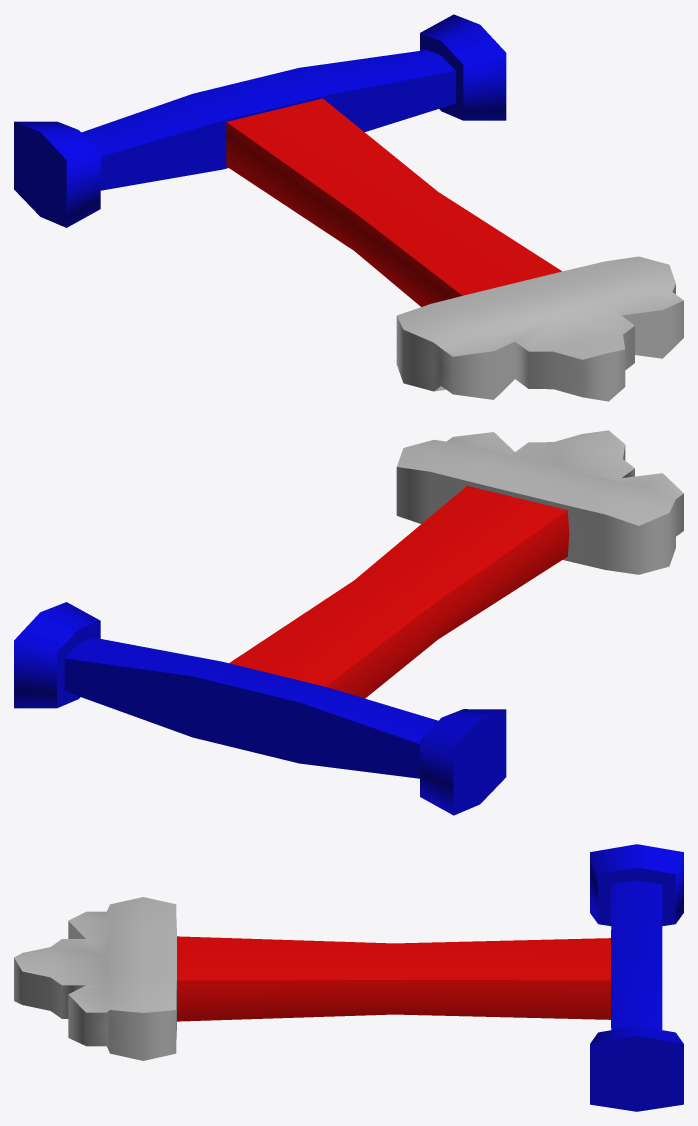
The model's file is hand_1.fbx.
The picture shows the model from 3 angles, top to bottom: view 1: azimuth 30°, elevation 25°; view 2: azimuth 150°, elevation 25°; view 3: azimuth 270°, elevation 25°; orthographic projection. The views are drawn at different scales.
Visible parts, largest first — view 1: hand_1; view 2: hand_1; view 3: hand_1.
Boxes of the visible parts, bbox=[...] form: hand_1: bbox=[14, 14, 683, 401]; hand_1: bbox=[14, 430, 683, 815]; hand_1: bbox=[14, 844, 683, 1111].
Bounding box in the file's own units: 24.25 × 4.47 × 35.79.
